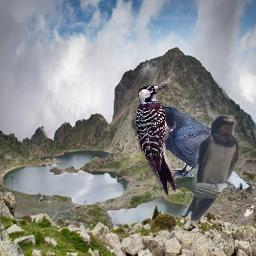Crow: (136, 106, 230, 177)
Swallow: (183, 115, 239, 222)
Woodpecker: (136, 83, 176, 196)
